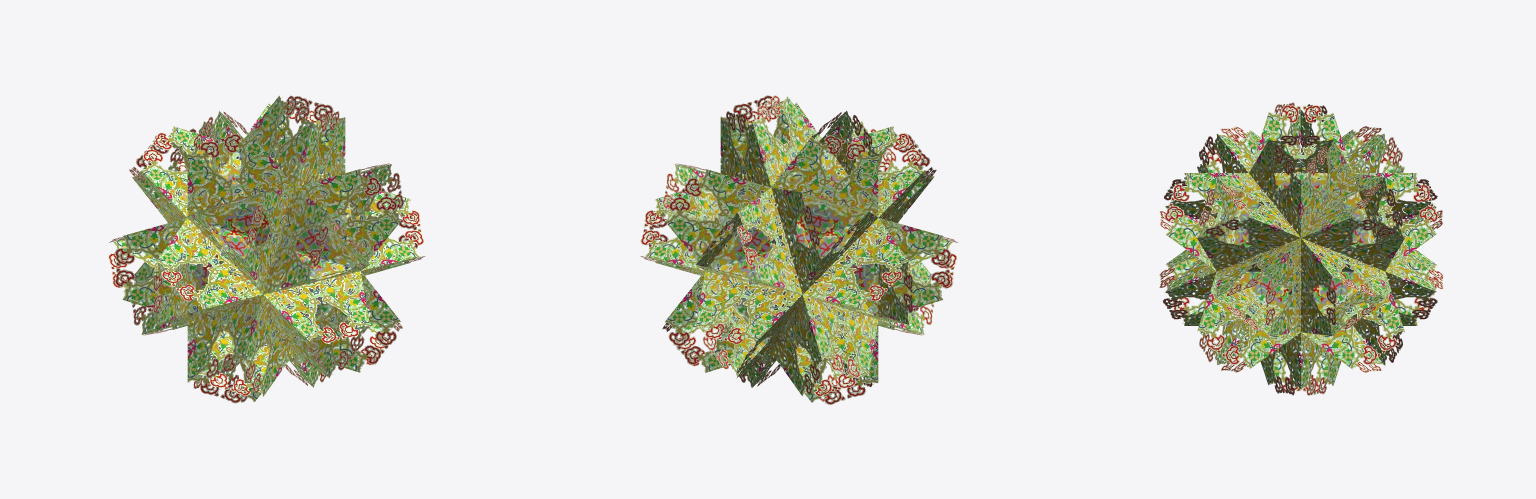
The model's file is GreatStellatedDodecahedron9.obj.
3 views of the same model, side by side, from view 1: azimuth 30°, elevation 25°; view 2: azimuth 150°, elevation 25°; view 3: azimuth 270°, elevation 25° (orthographic). The views are drawn at different scales.
Bounding box in the file's own units: 1 × 1 × 1.
1 material, 1 textured.
